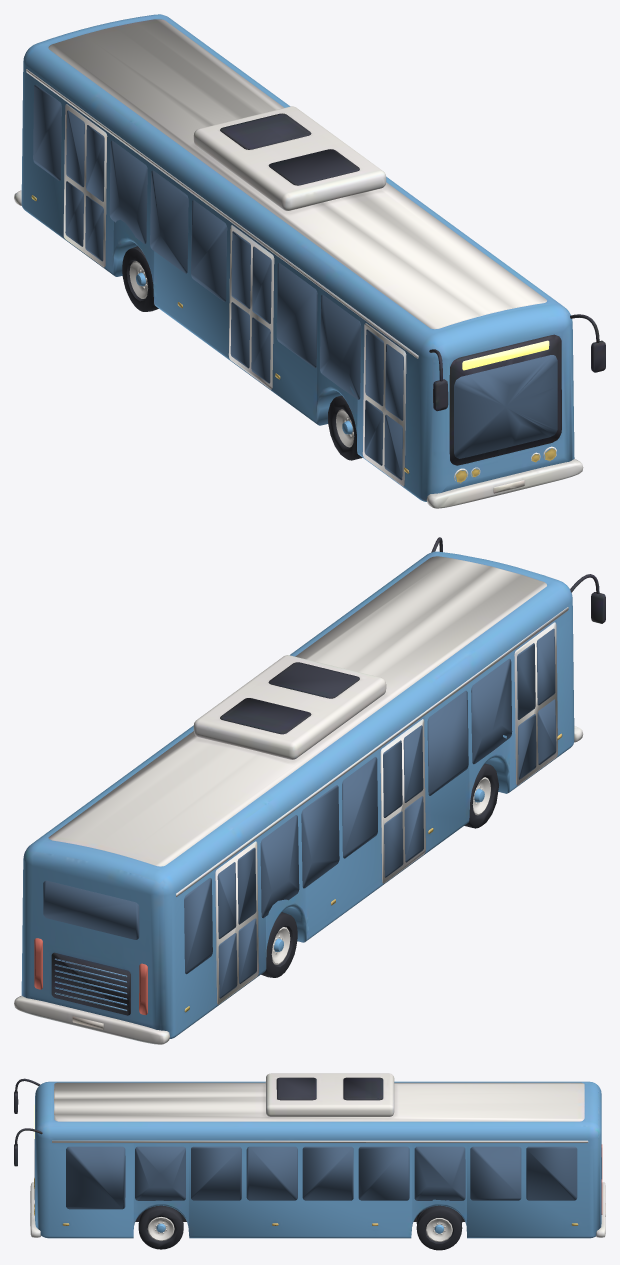
Rendered from bus.glb.
3 renders of one model, top to bottom at view 1: azimuth 30°, elevation 25°; view 2: azimuth 150°, elevation 25°; view 3: azimuth 270°, elevation 25°, orthographic. The views are drawn at different scales.
Parts seen in each view (by area): view 1: body, windows, door_windows, wheel_RR, wheel_FR, destination_display; view 2: body, windows, door_windows, wheel_RR, wheel_FR, taillights; view 3: body, windows, wheel_RL, wheel_FL.
Boxes of the visible parts, box(x1,y1,x2,y2) form: body: box(14, 14, 605, 508); windows: box(33, 84, 557, 458); door_windows: box(65, 110, 403, 480); wheel_RR: box(122, 246, 158, 311); wheel_FR: box(328, 395, 362, 460); destination_display: box(462, 340, 549, 370); body: box(14, 537, 605, 1044); windows: box(43, 658, 512, 974); door_windows: box(217, 628, 556, 998); wheel_RR: box(261, 912, 297, 977); wheel_FR: box(464, 763, 498, 828); taillights: box(34, 938, 147, 1015); body: box(14, 1073, 605, 1238); windows: box(34, 1139, 577, 1209); wheel_RL: box(416, 1205, 462, 1250); wheel_FL: box(138, 1205, 183, 1249).
Size of the model in its own units: 2.51 by 2.84 by 11.
Materials: 8 (1 with a texture image).
